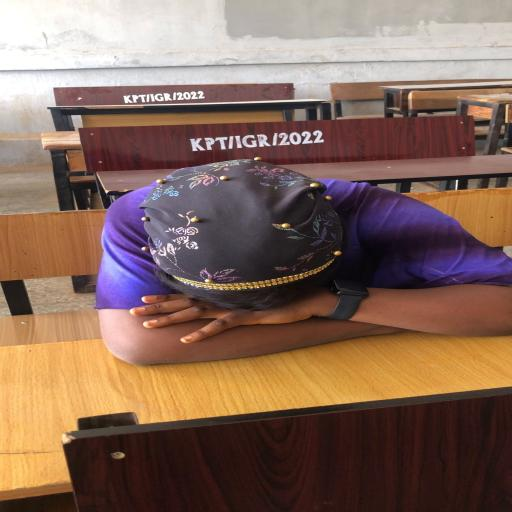Sleeping: (92, 159, 512, 366)
